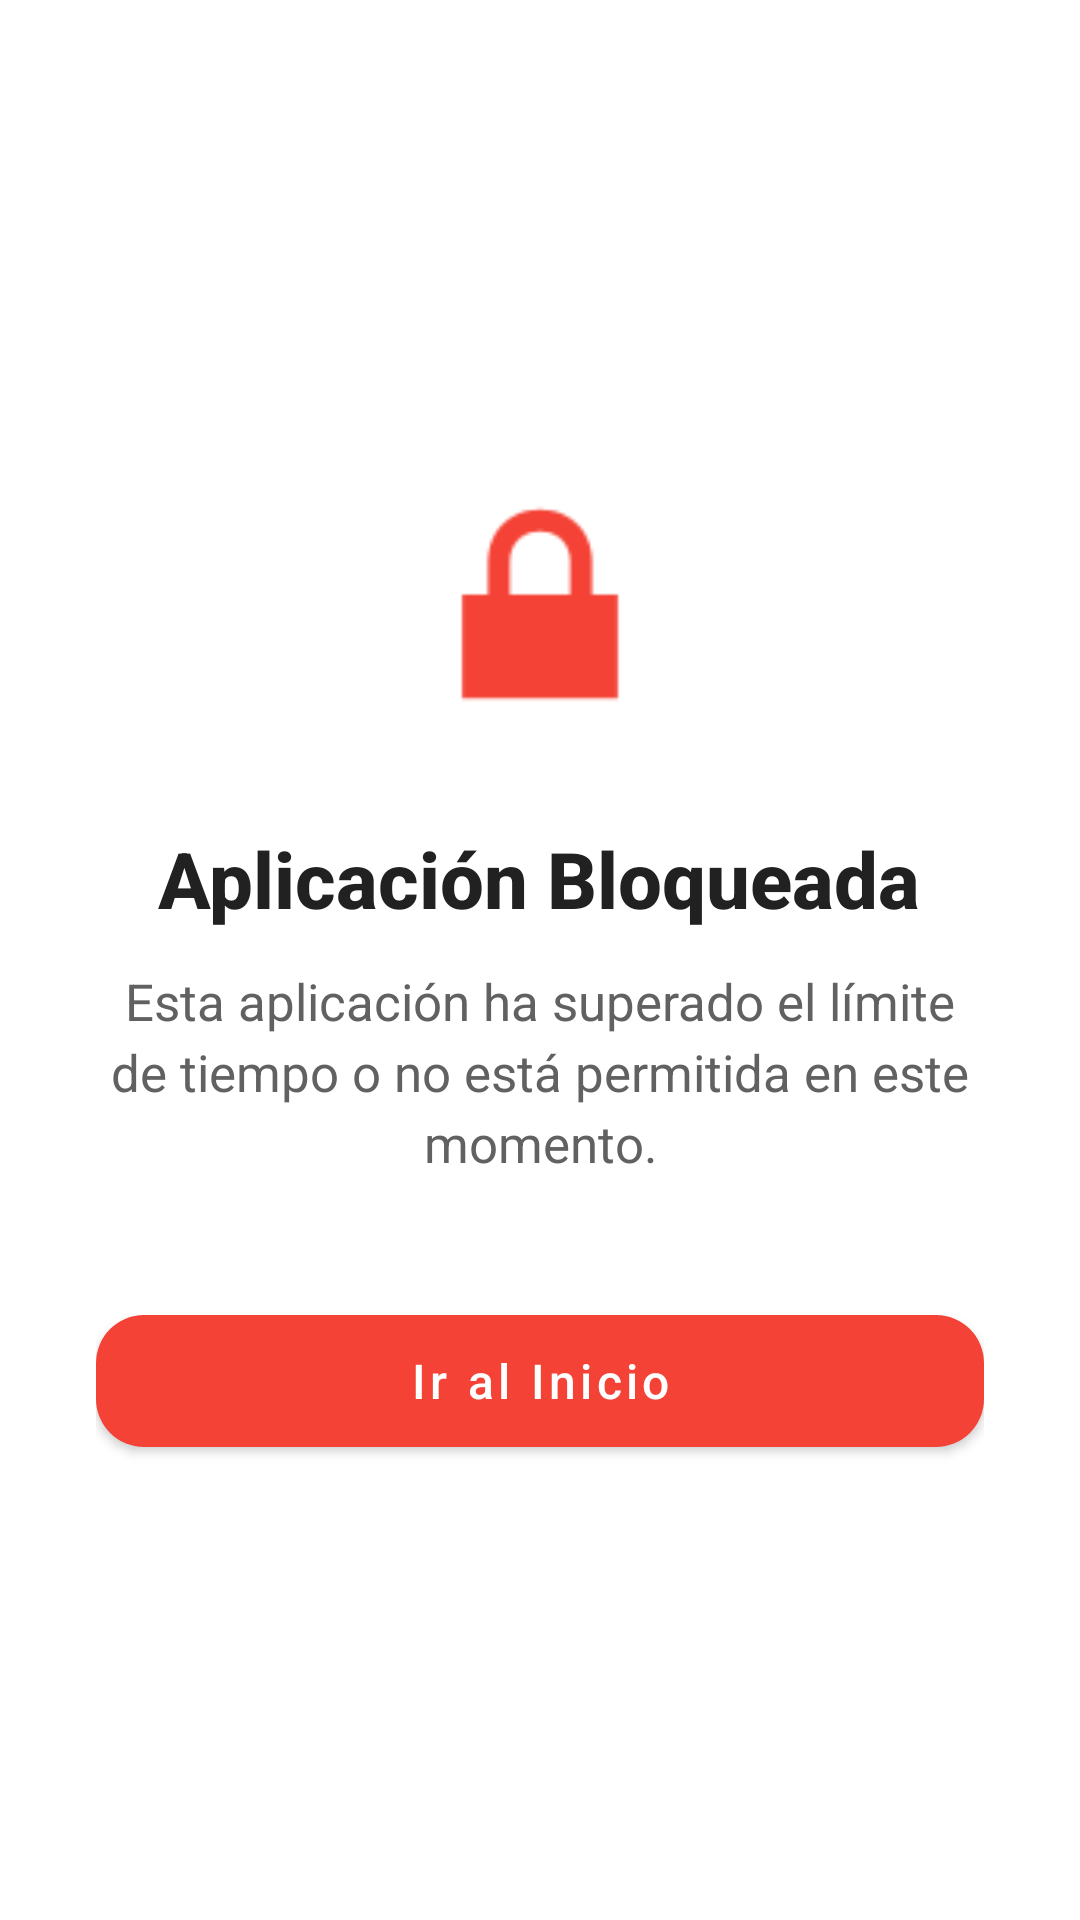

Screen size 1080 × 1920. Icon name, then its box in pixels as box(x1, y1, x2, y2):
Bloqueado: box(461, 507, 619, 701)
